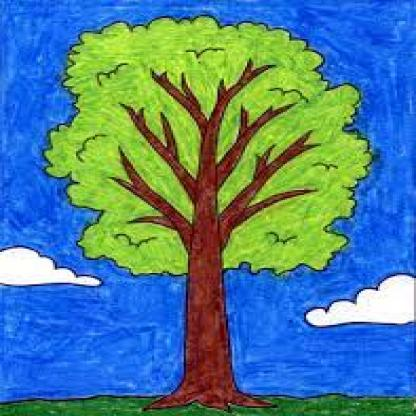branch_sharp: (115, 59, 317, 245)
crown_cloud: (46, 15, 372, 276)
root_upside: (134, 388, 281, 414)
trunk_straight: (177, 288, 240, 366)
